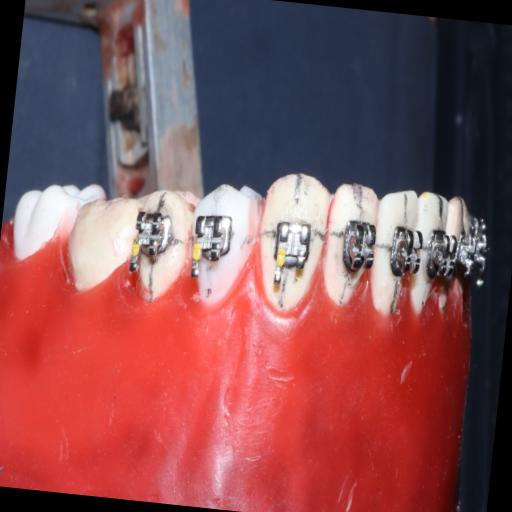correct_brace: (184, 176, 266, 311), (188, 210, 242, 284)
incorrect_brace: (266, 208, 316, 291)
